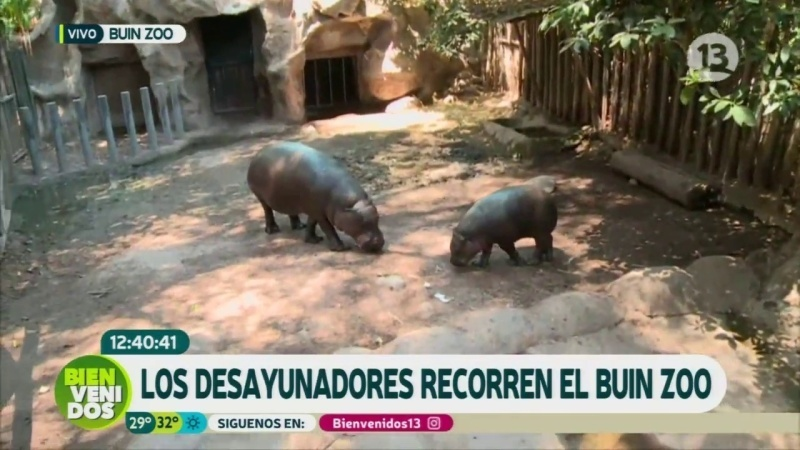hipopotamo: (233, 136, 397, 262), (438, 177, 572, 272)
